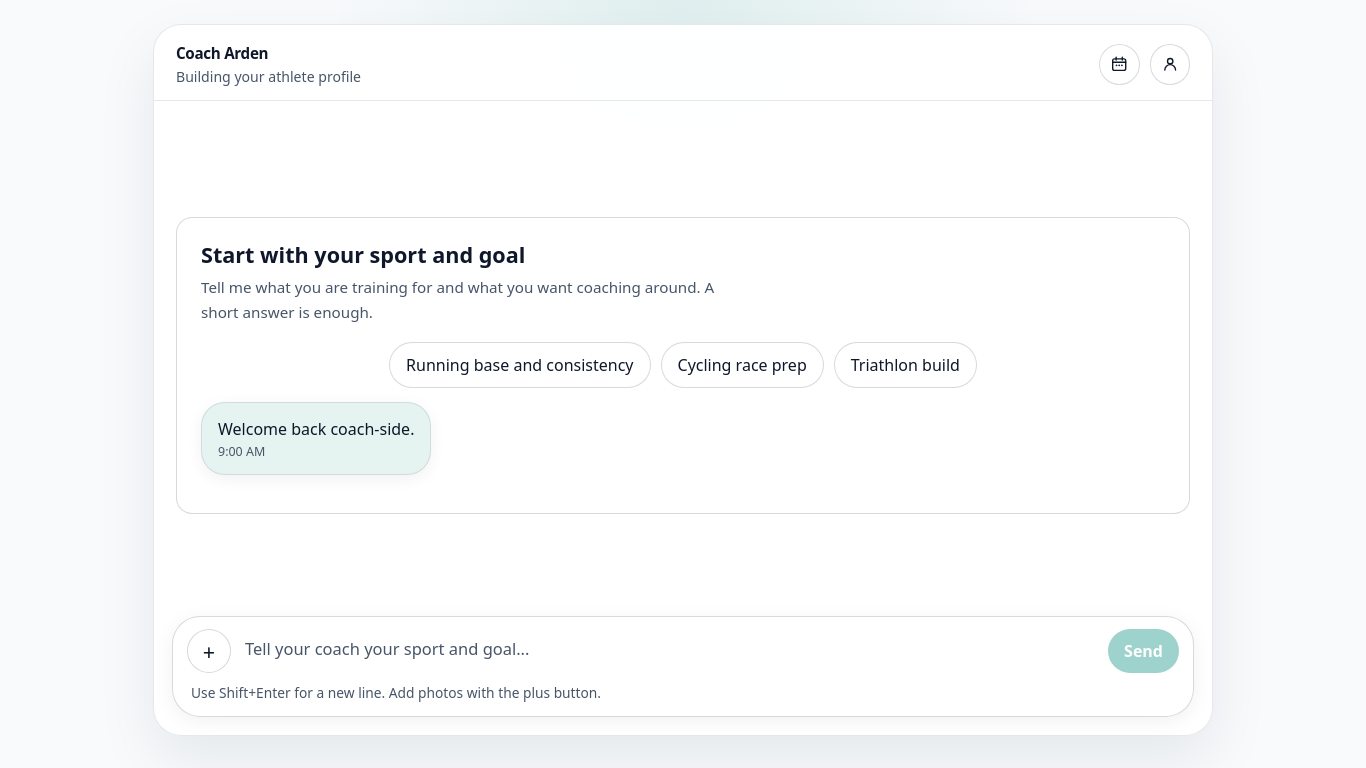
Test: CoachChat account menu › opens profile preferences from the account menu without raw id editing
This screenshot has width=1366, height=768.
Expected: the text "Building your athlete profile" is shown, [176,67,361,86]
Click the button named "Account menu" at (1170, 64), box [1150,44,1190,85]
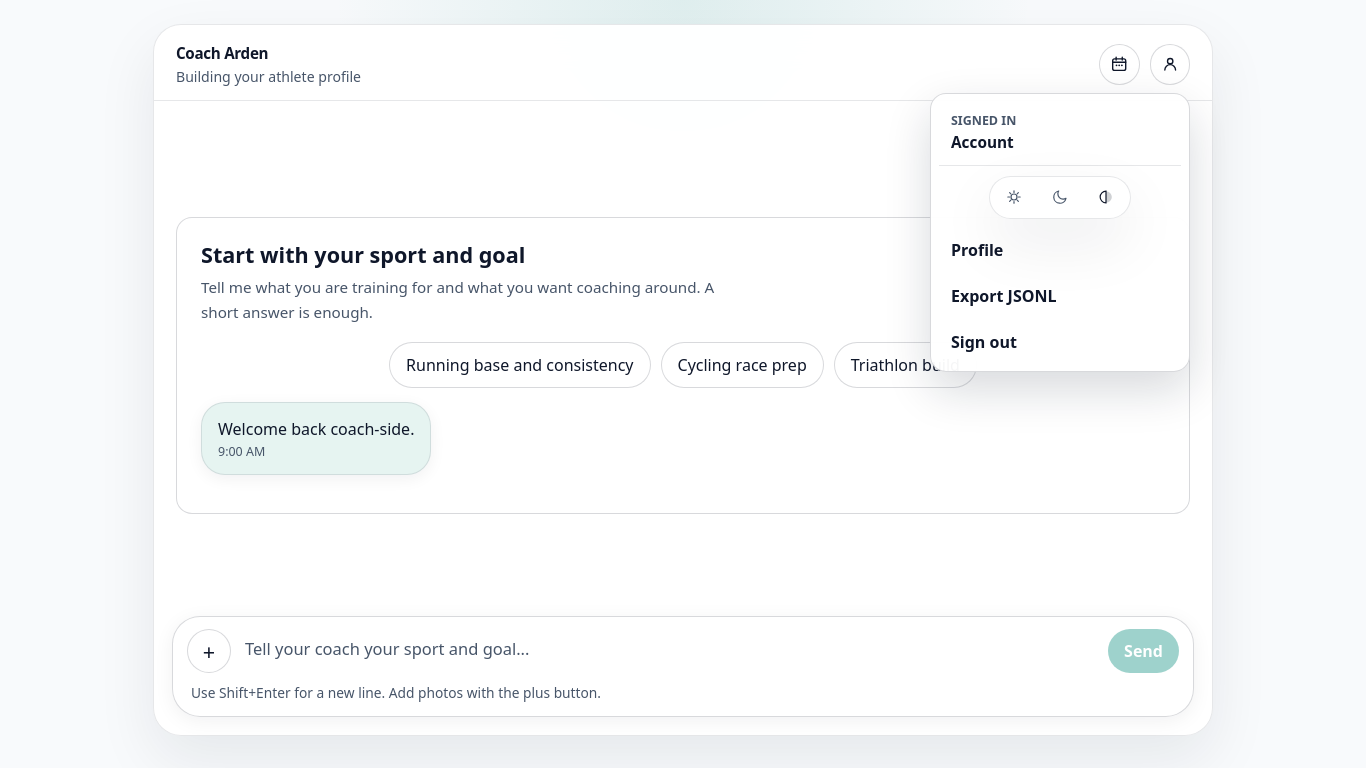
Expected: the menu "Signed in Account Profile Export JSONL Sign out" is shown, [930,93,1190,372]
Expected: the menu item "Sign out" is shown, [939,321,1181,363]
Click the menu item "Profile" at (1060, 250), box [939,229,1181,271]
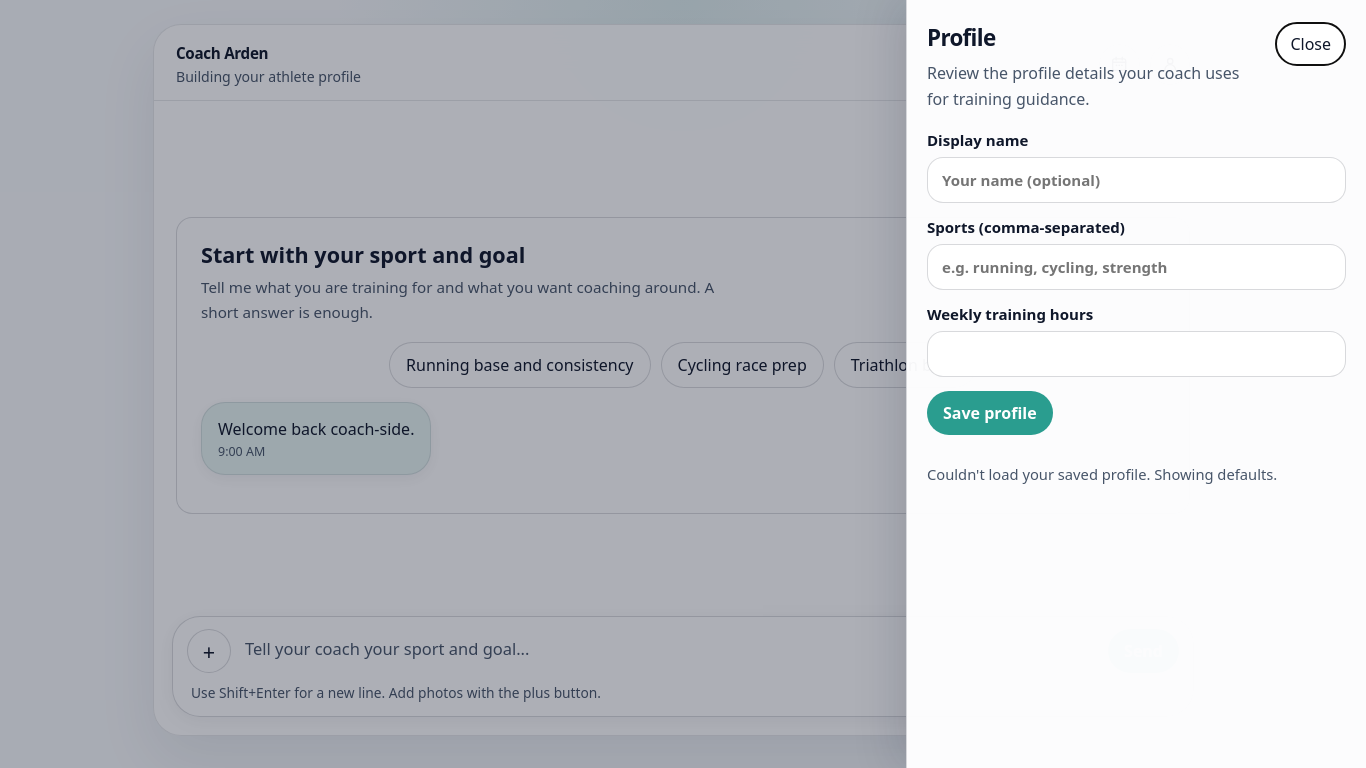
Expected: the heading "Profile" is shown, [927,22,996,53]
Expected: the field labelled "Display name" is shown, [927,157,1346,203]
Expected: the field labelled "Sports (comma-separated)" is shown, [927,244,1346,290]
